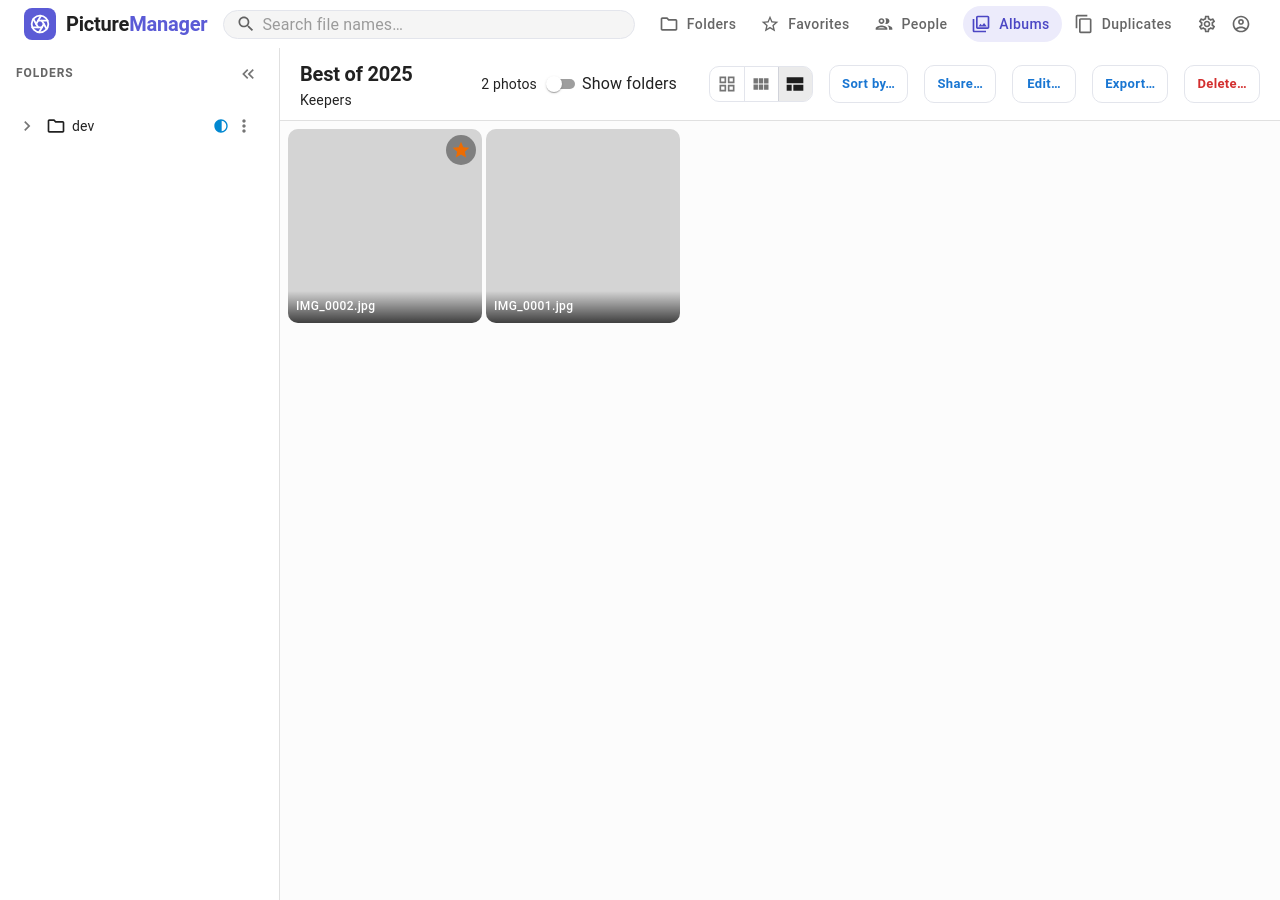
Test: AlbumView › renames the album, and shows a taken name on the field
The width and height of the screenshot is (1280, 900).
Click the button "Edit…" at (1044, 84), box [1012,65,1076,103]
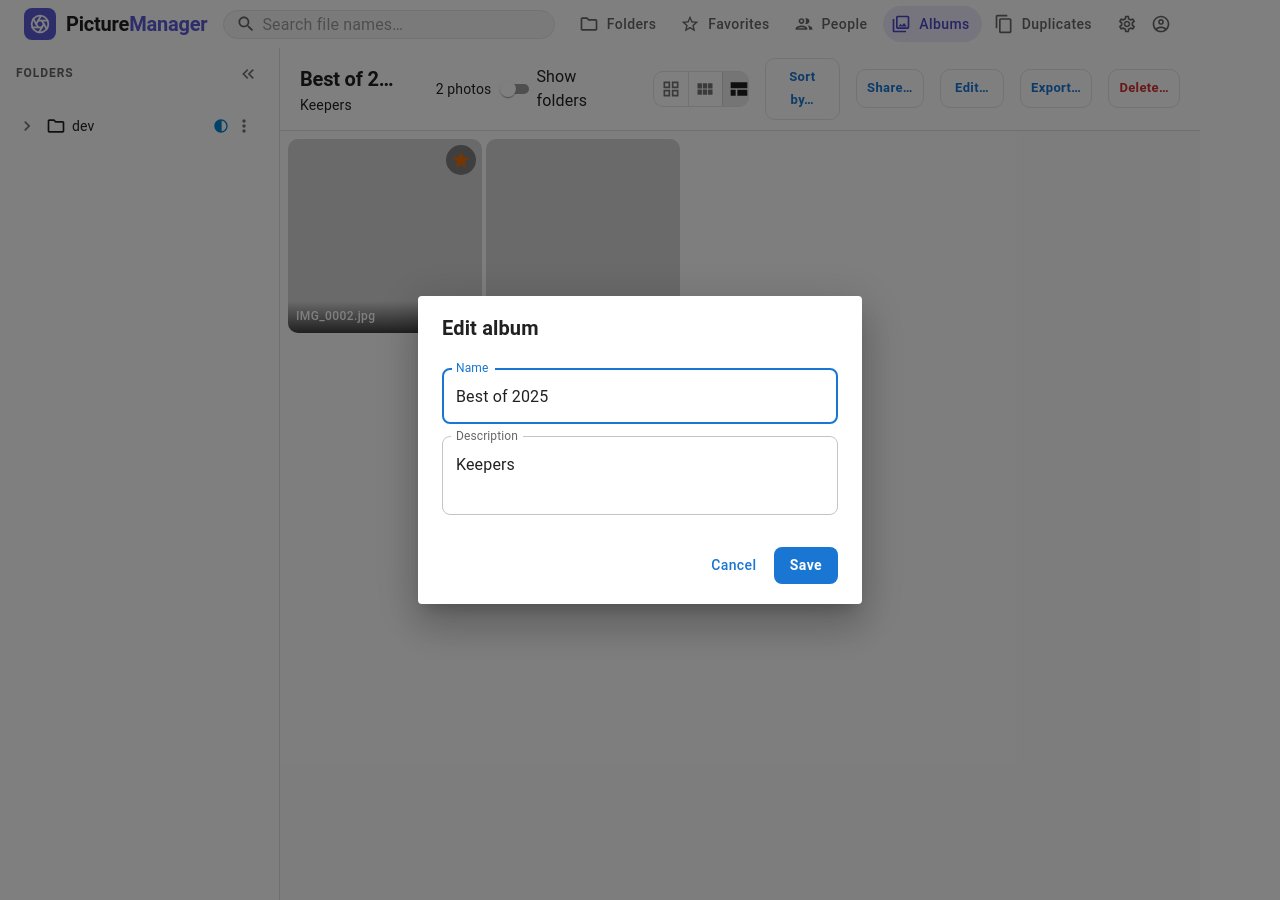
Replace the text in the field labelled "Name" with "Empty" at (640, 396), box [442,368,838,424]
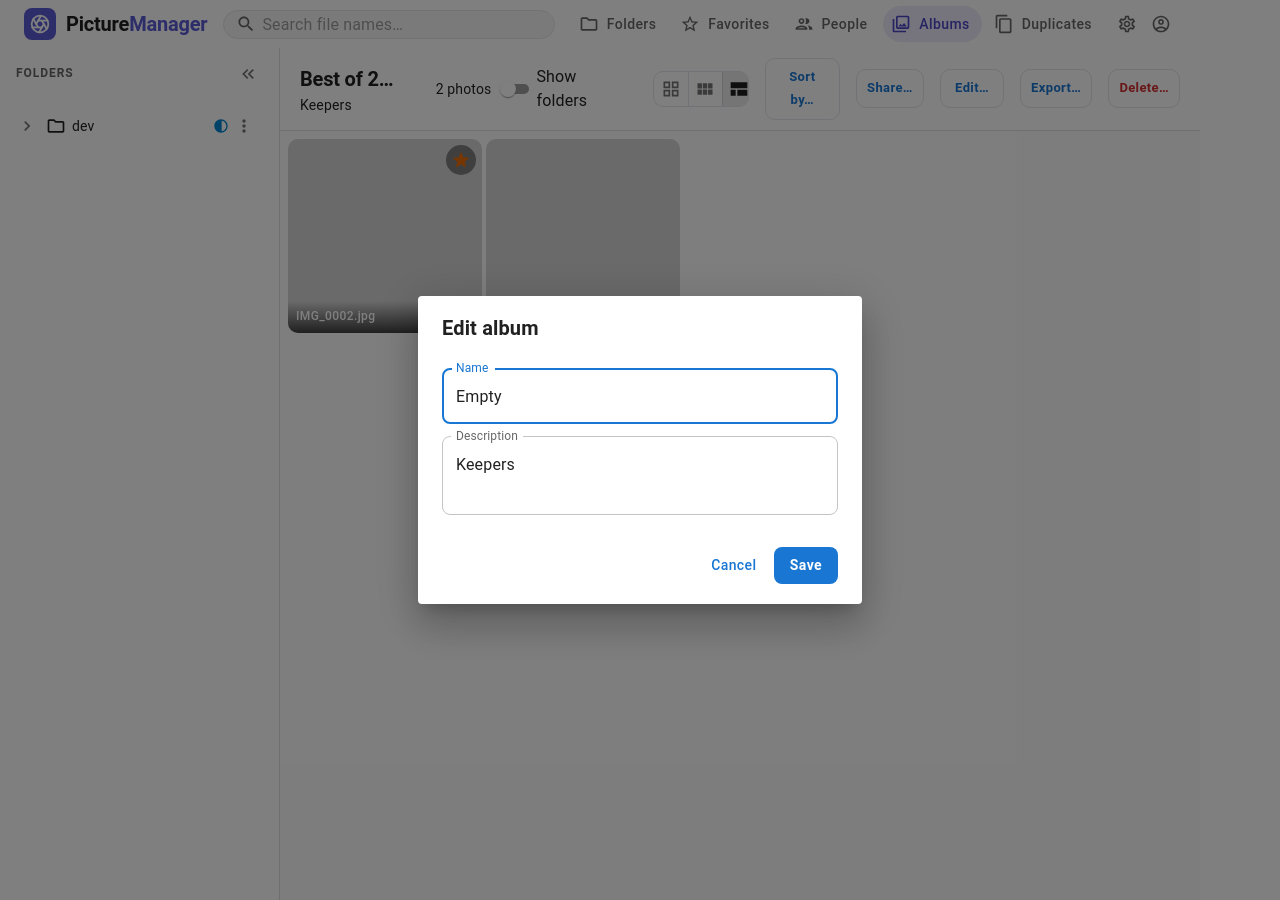
Click the button "Save" at (806, 566), box [774,547,838,584]
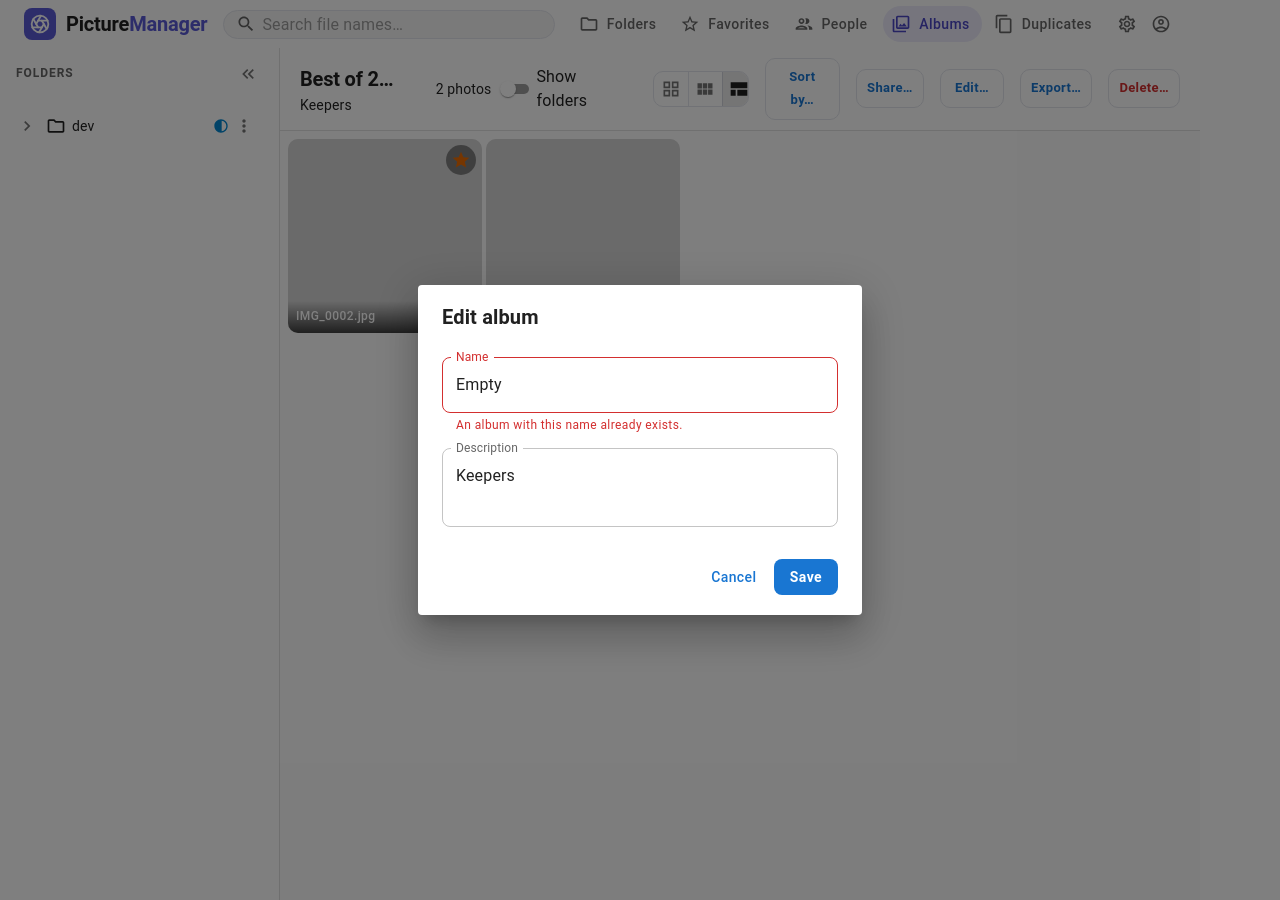
Now the text "An album with this name already exists." is shown, box [456,418,683,432]
Replace the text in the field labelled "Name" with "Keepers 2025" at (640, 385), box [442,357,838,413]
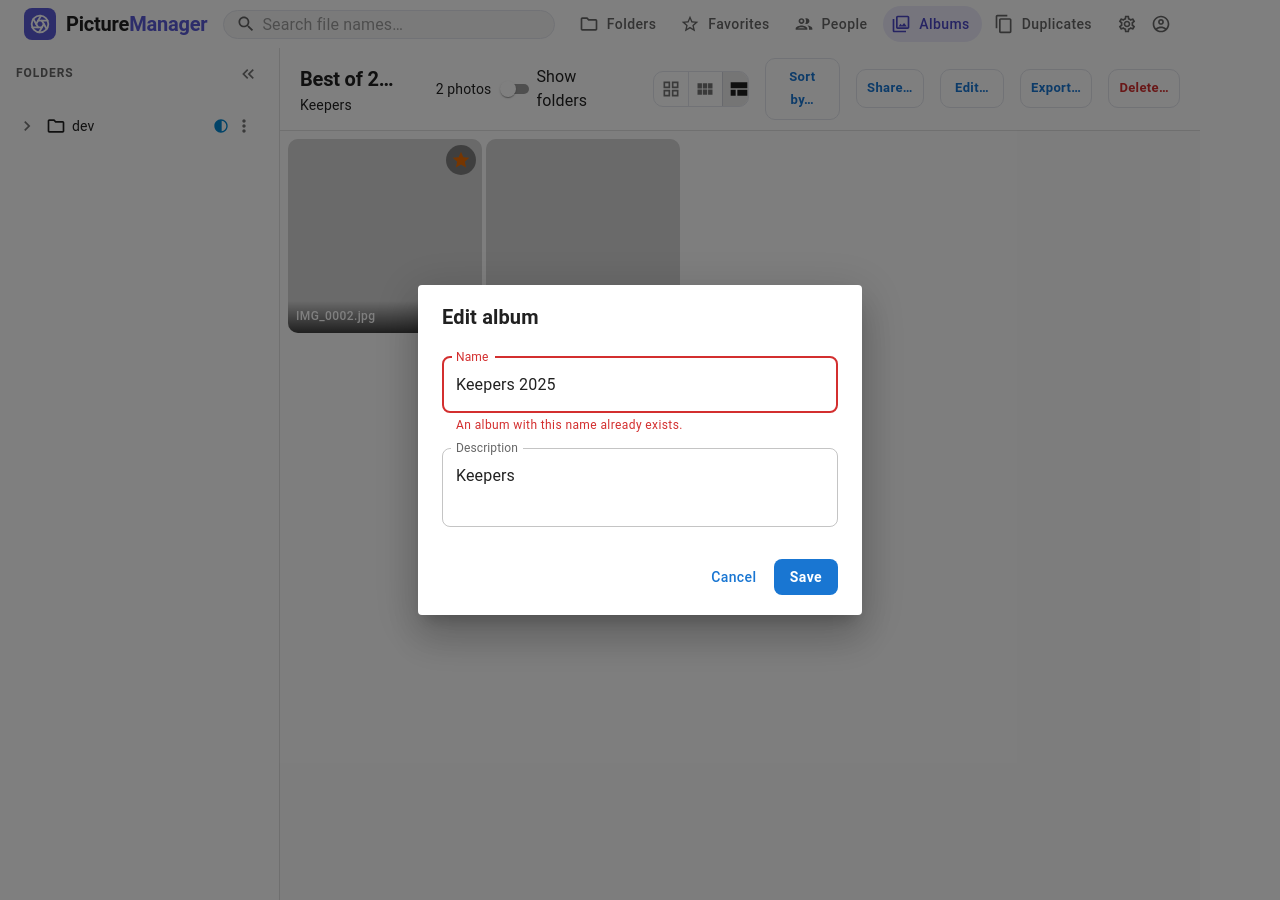
Click the button "Save" at (806, 577), box [774,559,838,595]
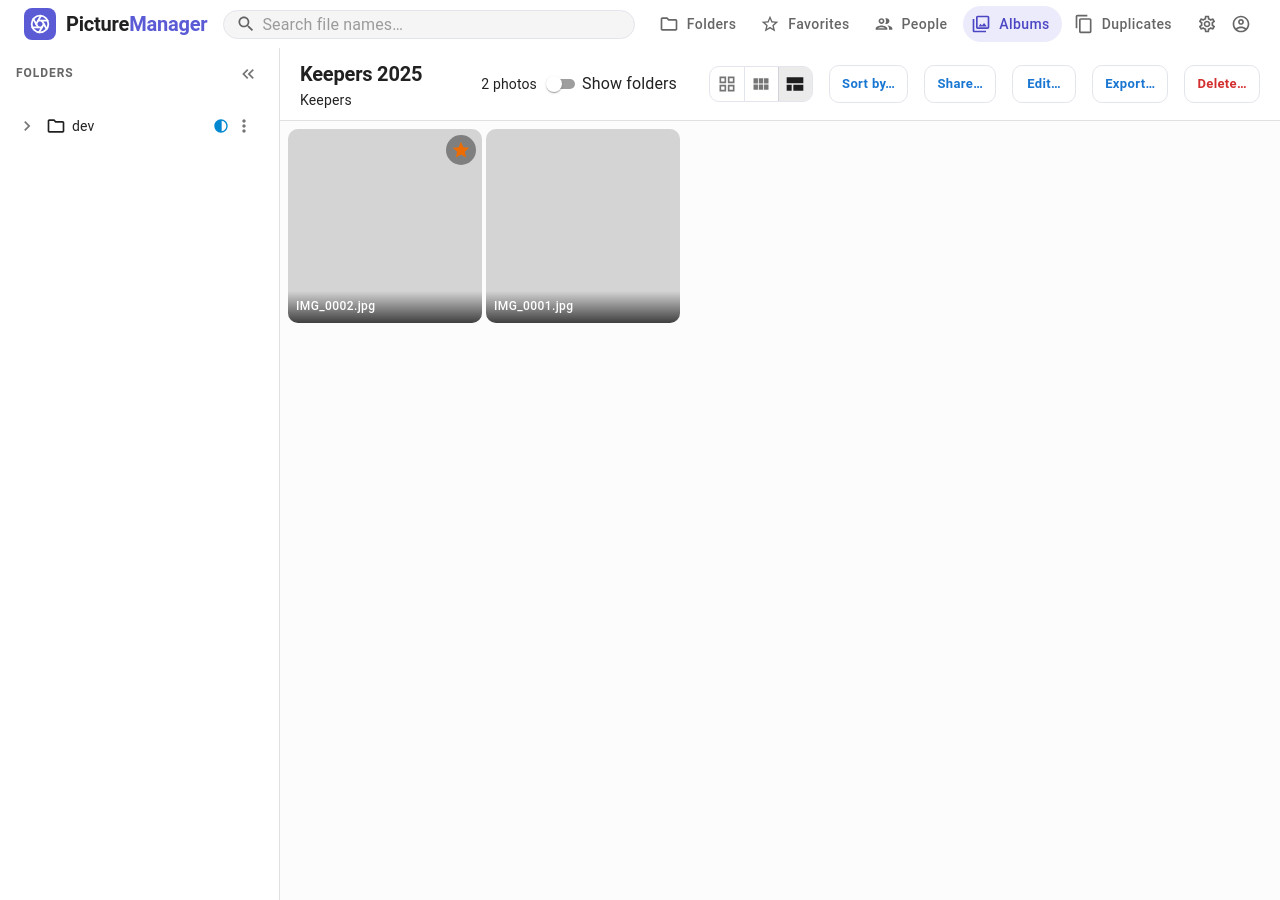
Now the heading "Keepers 2025" is shown, box [300,58,422,90]
